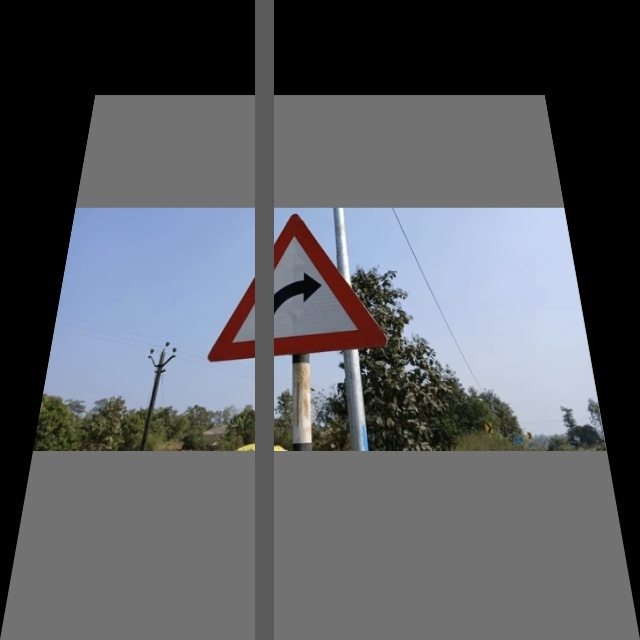Right_Hand_Curve: (214, 212, 384, 364)
